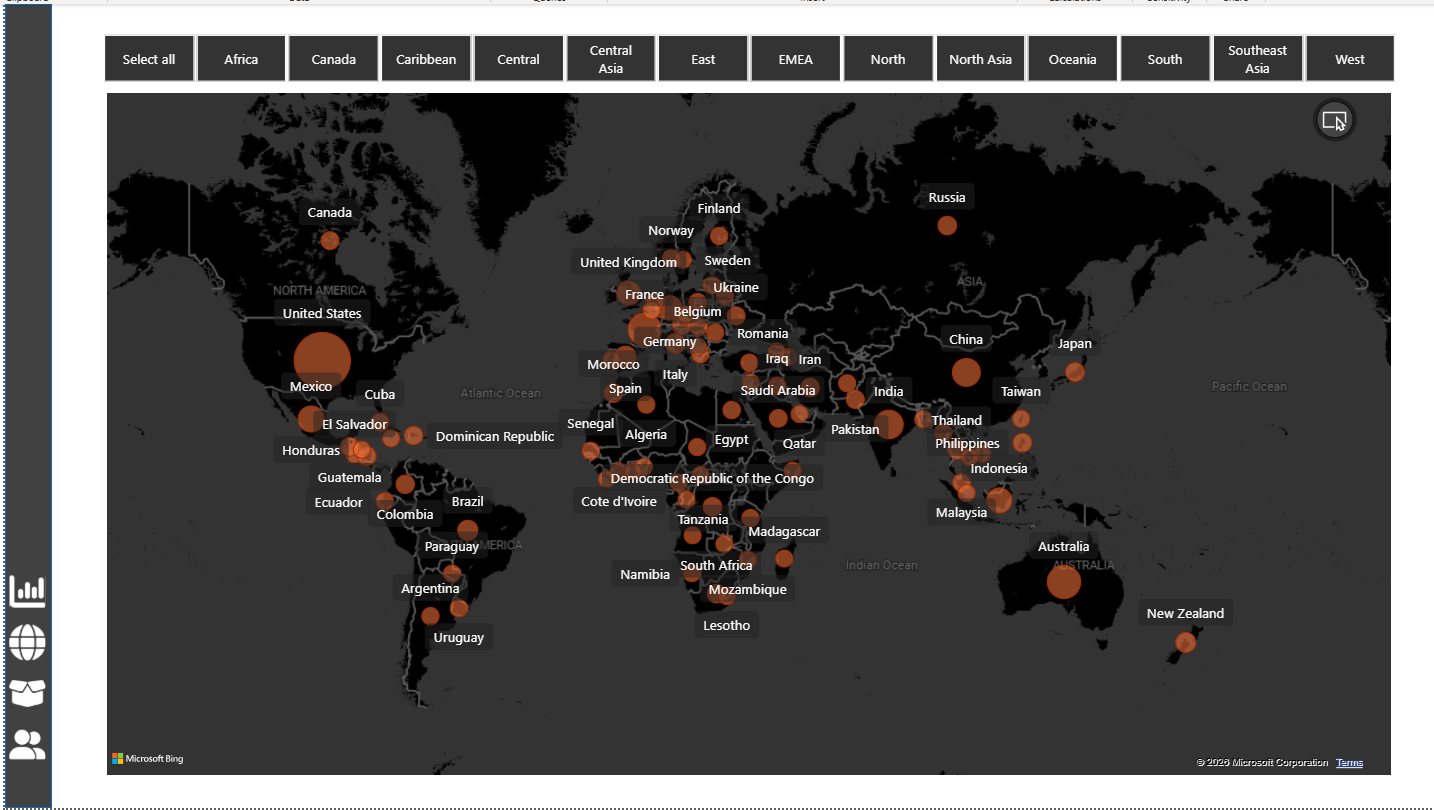

What the dashboard file says about the page in this screenshot:
{"tool":"powerbi","page":{"name":"Map","canvas":[1280,720],"ordinal":1},"visuals":[{"type":"map","title":"Orders by Region","fields":{"Size":["Measure Table.Total Orders"],"Category":["Customer_Table.Country"]},"box":[86,74.3,1159.7,621.5],"z":0},{"type":"actionButton","box":[0,506,42.1,40.3],"z":0,"group":"g1"},{"type":"slicer","fields":{"Values":["Customer_Table.Region"]},"box":[62.7,20.6,1206.3,53.7],"z":1000},{"type":"actionButton","box":[0,506,42.1,40.3],"z":1000,"group":"g1"},{"type":"shape","box":[0,0,42.1,720],"z":2000},{"type":"actionButton","box":[0,643,42.1,40.3],"z":2000,"group":"g1"},{"type":"group","id":"g1","title":"Nav Buttons","box":[0,506,42.1,177.3],"z":3000},{"type":"actionButton","box":[0,643,42.1,40.3],"z":3000,"group":"g1"},{"type":"actionButton","box":[0,597.3,42.1,40.3],"z":4000,"group":"g1"},{"type":"actionButton","box":[0,597.3,42.1,40.3],"z":5000,"group":"g1"},{"type":"actionButton","box":[0,551.7,42.1,40.3],"z":6000,"group":"g1"},{"type":"actionButton","box":[0,551.7,42.1,40.3],"z":7000,"group":"g1"}]}

Visuals, with their boxes on the page's 1280x720 design canvas (x1, y1, x2, y2). These are canvas units, not pixel positions in the 1434x810 screenshot, which may show the page scaled, cropped or inside an application window:
"Orders by Region" map: 86:74:1246:696
actionButton: 0:506:42:546
slicer - Customer_Table.Region: 63:21:1269:74
actionButton: 0:506:42:546
shape: 0:0:42:720
actionButton: 0:643:42:683
"Nav Buttons" group: 0:506:42:683
actionButton: 0:643:42:683
actionButton: 0:597:42:638
actionButton: 0:597:42:638
actionButton: 0:552:42:592
actionButton: 0:552:42:592
